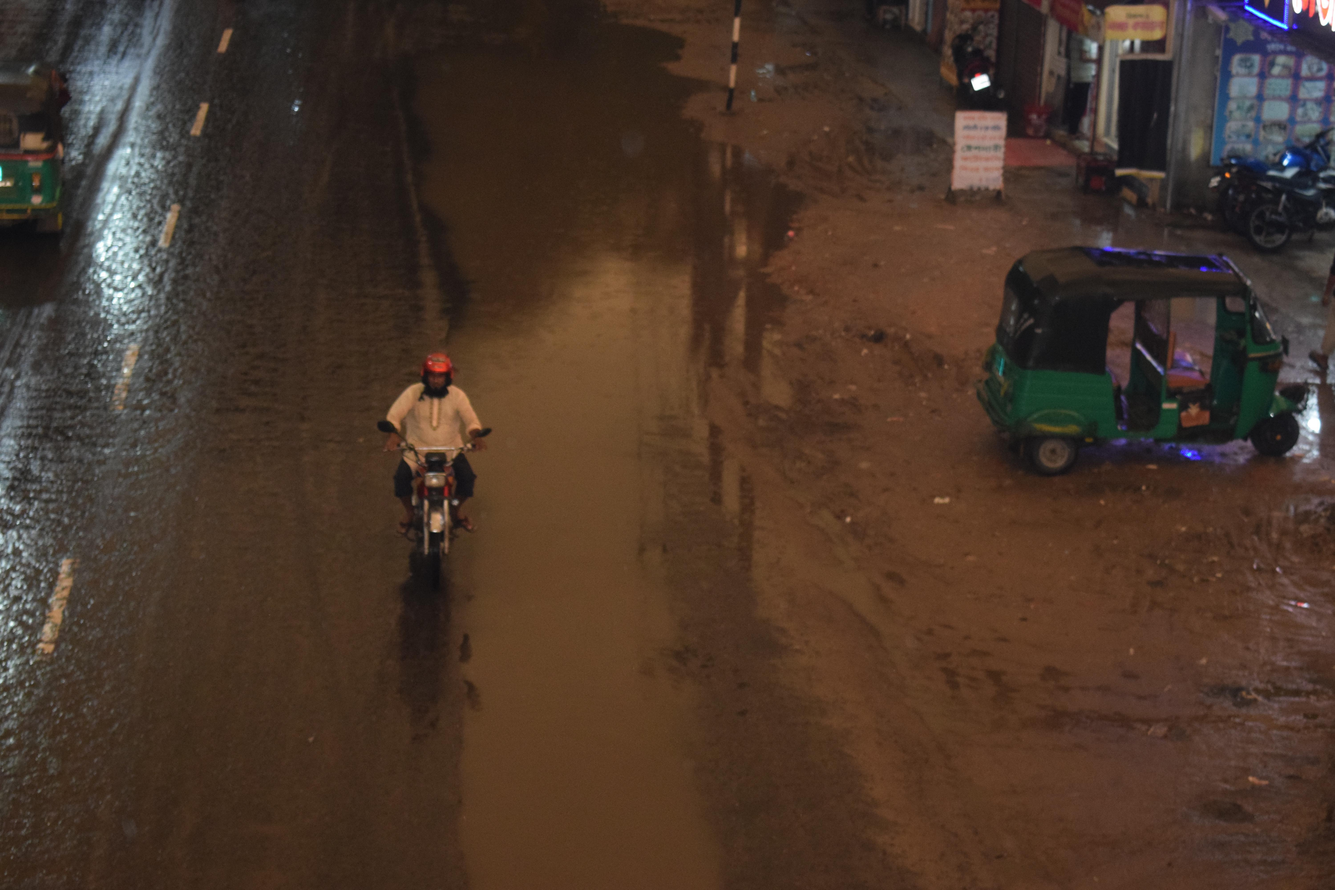Bike: (321, 314, 541, 627)
